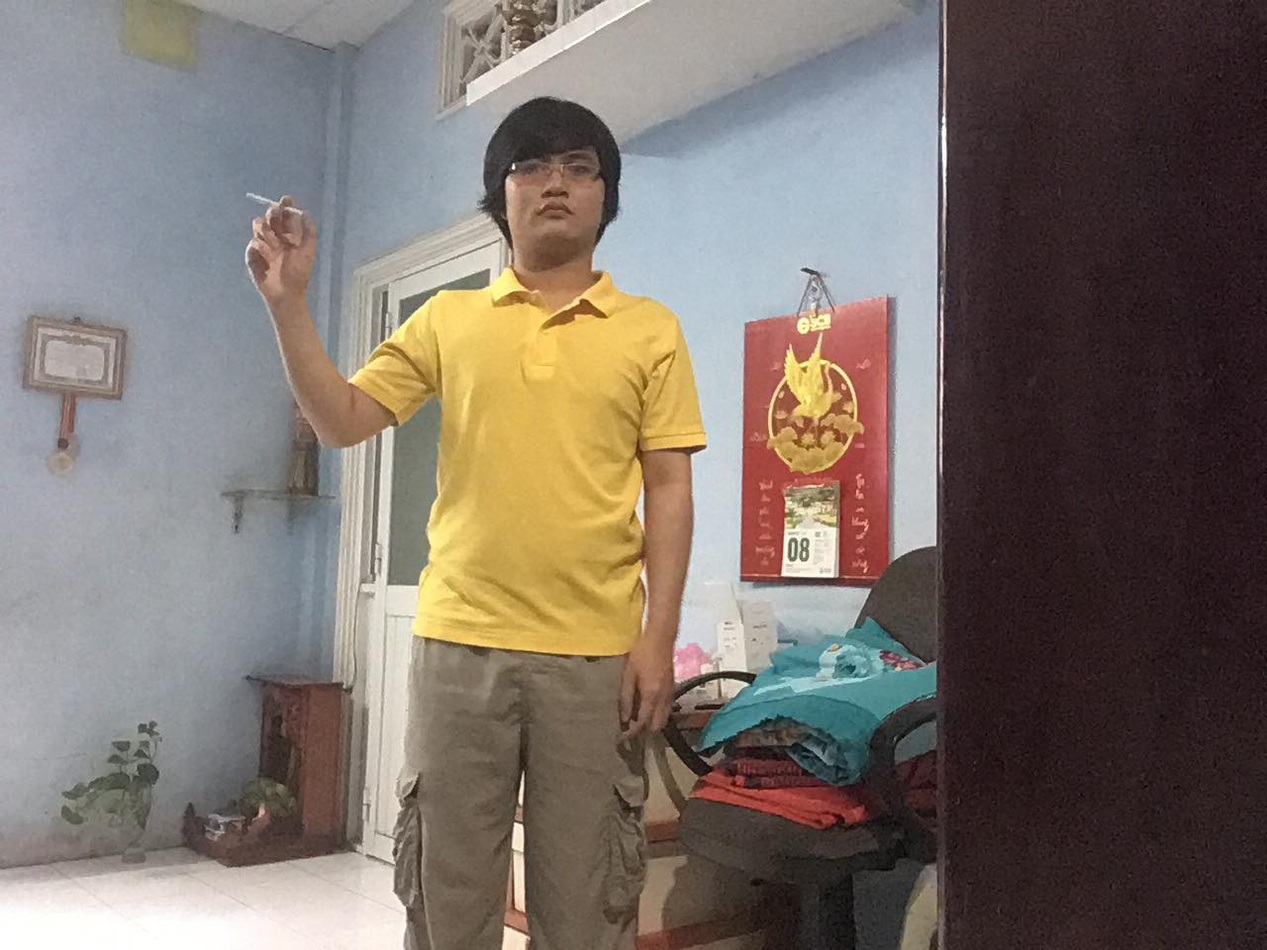cigarette: (243, 187, 277, 209)
person: (240, 129, 712, 946)
